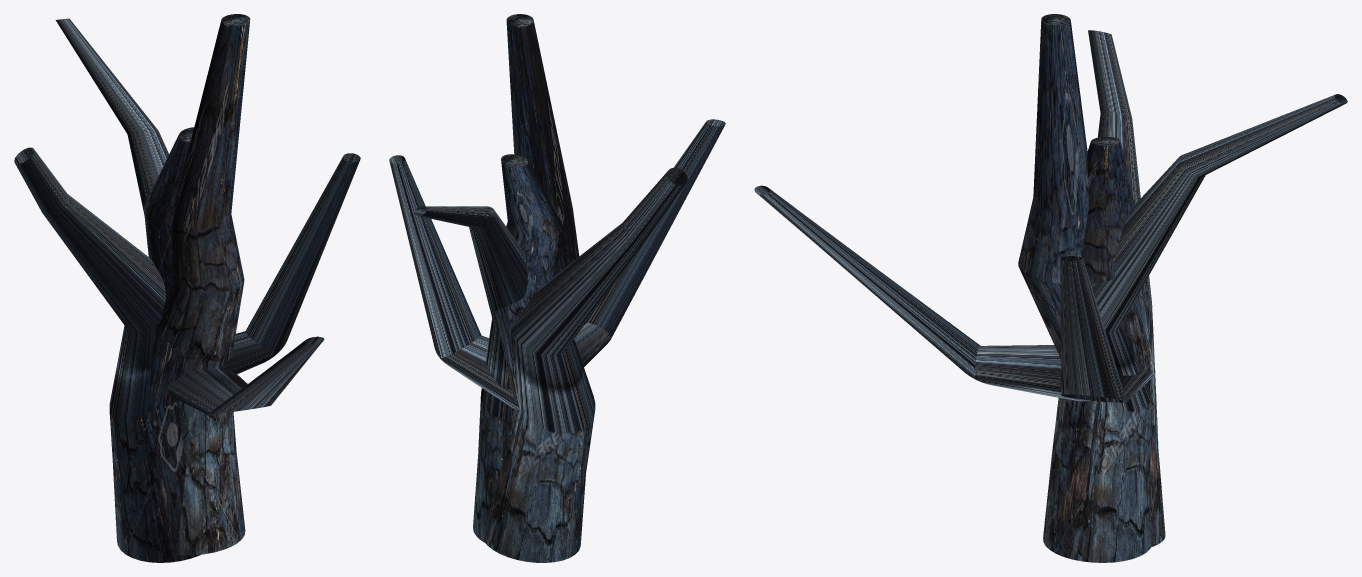
The model's file is Arvores03.fbx.
3 renders of one model, left to right at view 1: azimuth 30°, elevation 25°; view 2: azimuth 150°, elevation 25°; view 3: azimuth 270°, elevation 25°, orthographic. The views are drawn at different scales.
Parts seen in each view (by area): view 1: Cylinder.002; view 2: Cylinder.002; view 3: Cylinder.002.
Boxes of the visible parts, left/top/right/bottom form: Cylinder.002: left=14, top=14, right=360, bottom=562; Cylinder.002: left=389, top=14, right=725, bottom=562; Cylinder.002: left=754, top=14, right=1347, bottom=562.
Size of the model in its own units: 0.9959 by 1.52 by 1.54.
Materials: 1 (1 with a texture image).
